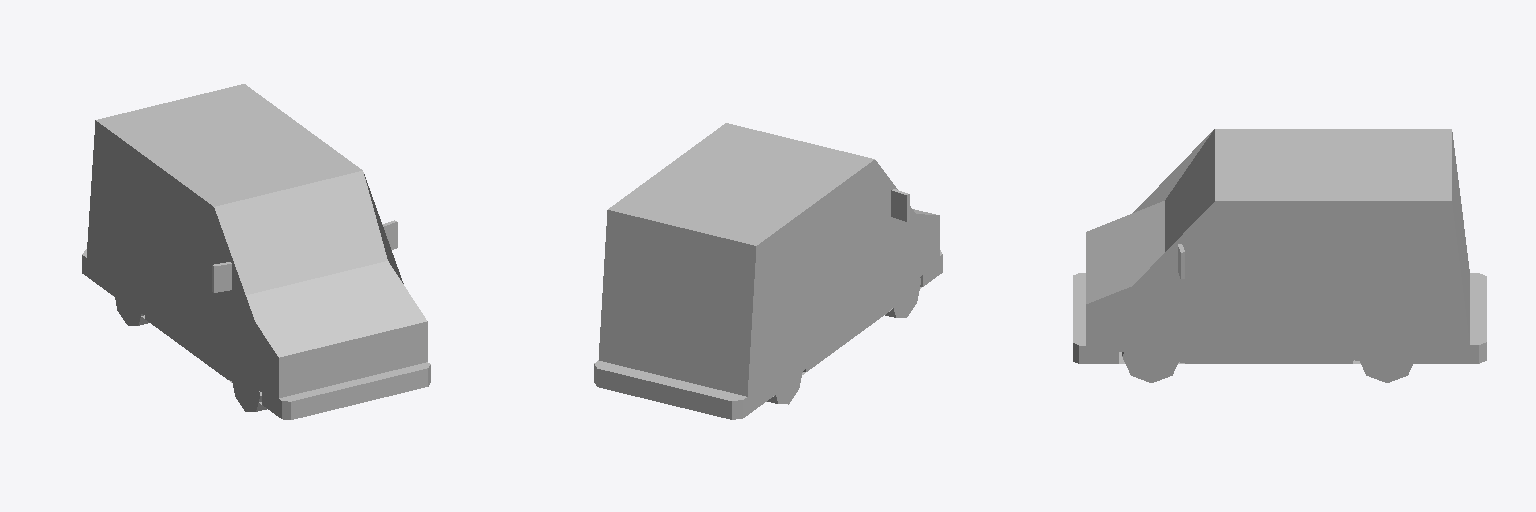
File: Veh_Mail_Truck.obj
3 views of the same model, side by side, from view 1: azimuth 30°, elevation 25°; view 2: azimuth 150°, elevation 25°; view 3: azimuth 270°, elevation 25° (orthographic).
Bounding box in the file's own units: 1.21 × 1.15 × 2.36.